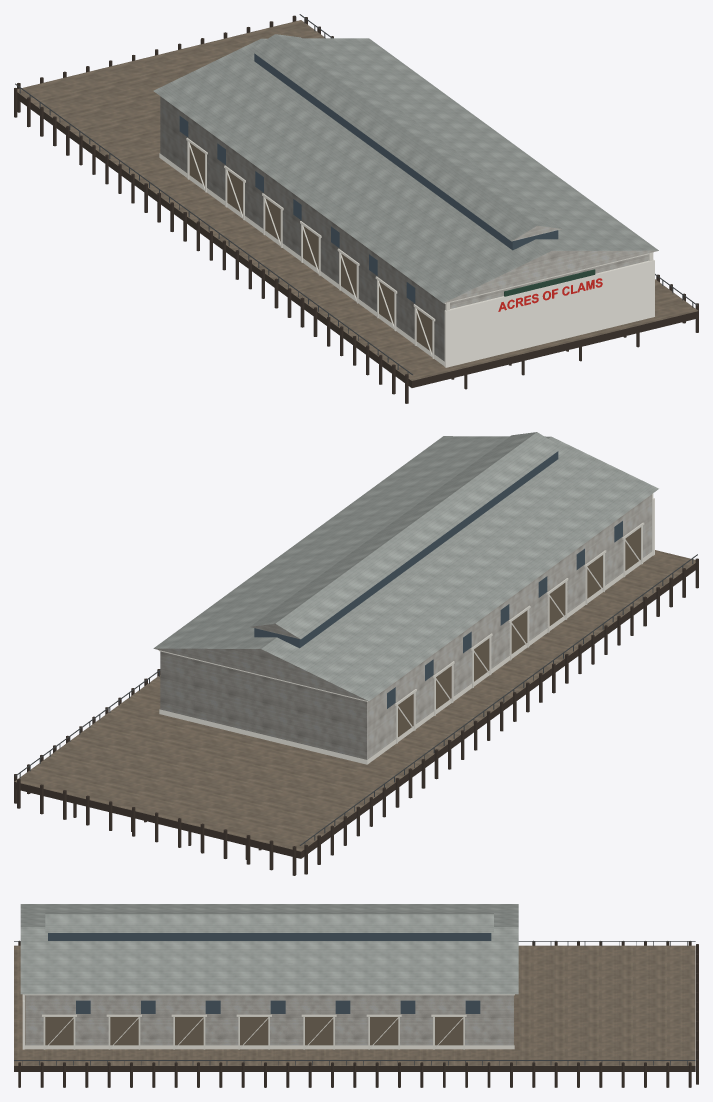
File: ivars_pier_54.glb
3 renders of one model, top to bottom at view 1: azimuth 30°, elevation 25°; view 2: azimuth 150°, elevation 25°; view 3: azimuth 270°, elevation 25°, orthographic. The views are drawn at different scales.
Visible parts, largest first — view 1: ivars_pier_54; view 2: ivars_pier_54; view 3: ivars_pier_54.
Part boxes in pixels (x1,y1,x2,y2): ivars_pier_54: (14,14,698,403); ivars_pier_54: (14,432,698,875); ivars_pier_54: (14,904,698,1087).
Size of the model in its own units: 51.2 by 21.81 by 121.
4 materials, 4 textured.
